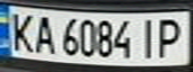0: (78, 16, 96, 58)
4: (112, 16, 136, 60)
6: (57, 15, 81, 56)
8: (93, 17, 115, 59)
A: (30, 11, 57, 55)
I: (136, 15, 163, 60)
K: (3, 9, 39, 53)
P: (151, 15, 187, 60)
